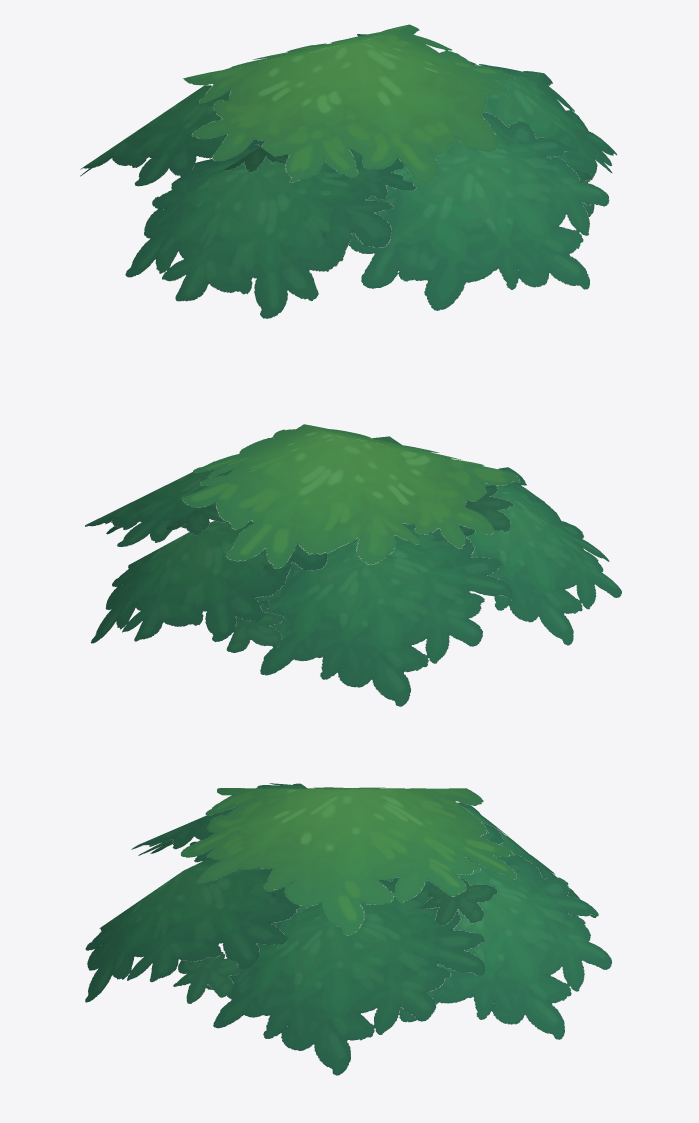
Rendered from shrub_low_01.fbx.
3 renders of one model, top to bottom at view 1: azimuth 30°, elevation 25°; view 2: azimuth 150°, elevation 25°; view 3: azimuth 270°, elevation 25°, orthographic. The views are drawn at different scales.
Parts seen in each view (by area): view 1: shrub_low_01; view 2: shrub_low_01; view 3: shrub_low_01.
Boxes of the visible parts, box(x1,y1,x2,y2) form: shrub_low_01: box(80, 24, 616, 318); shrub_low_01: box(85, 424, 621, 706); shrub_low_01: box(85, 783, 612, 1075).
Size of the model in its own units: 396 by 139 by 414.
1 material, 1 textured.
